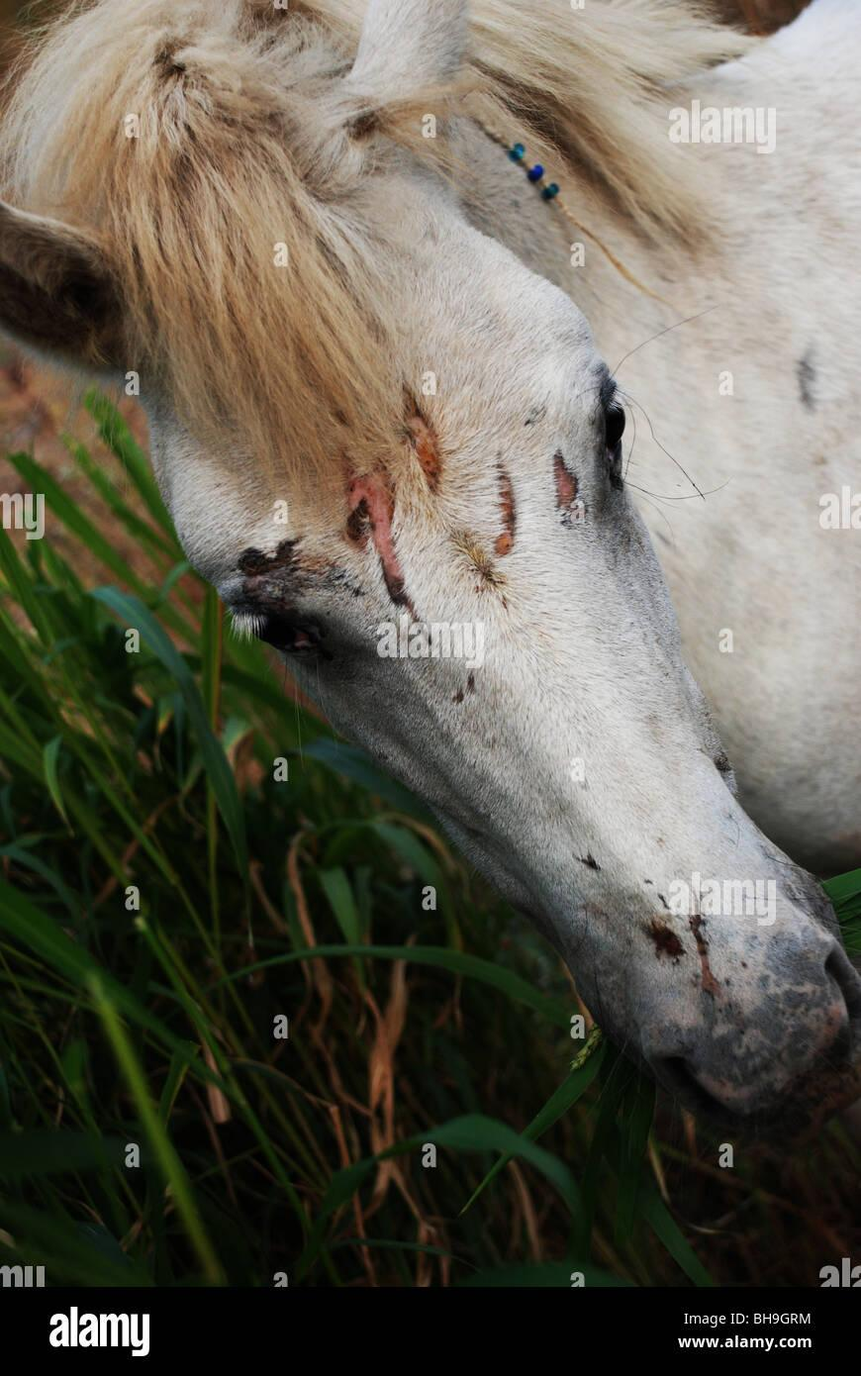cut: (265, 362, 656, 674)
